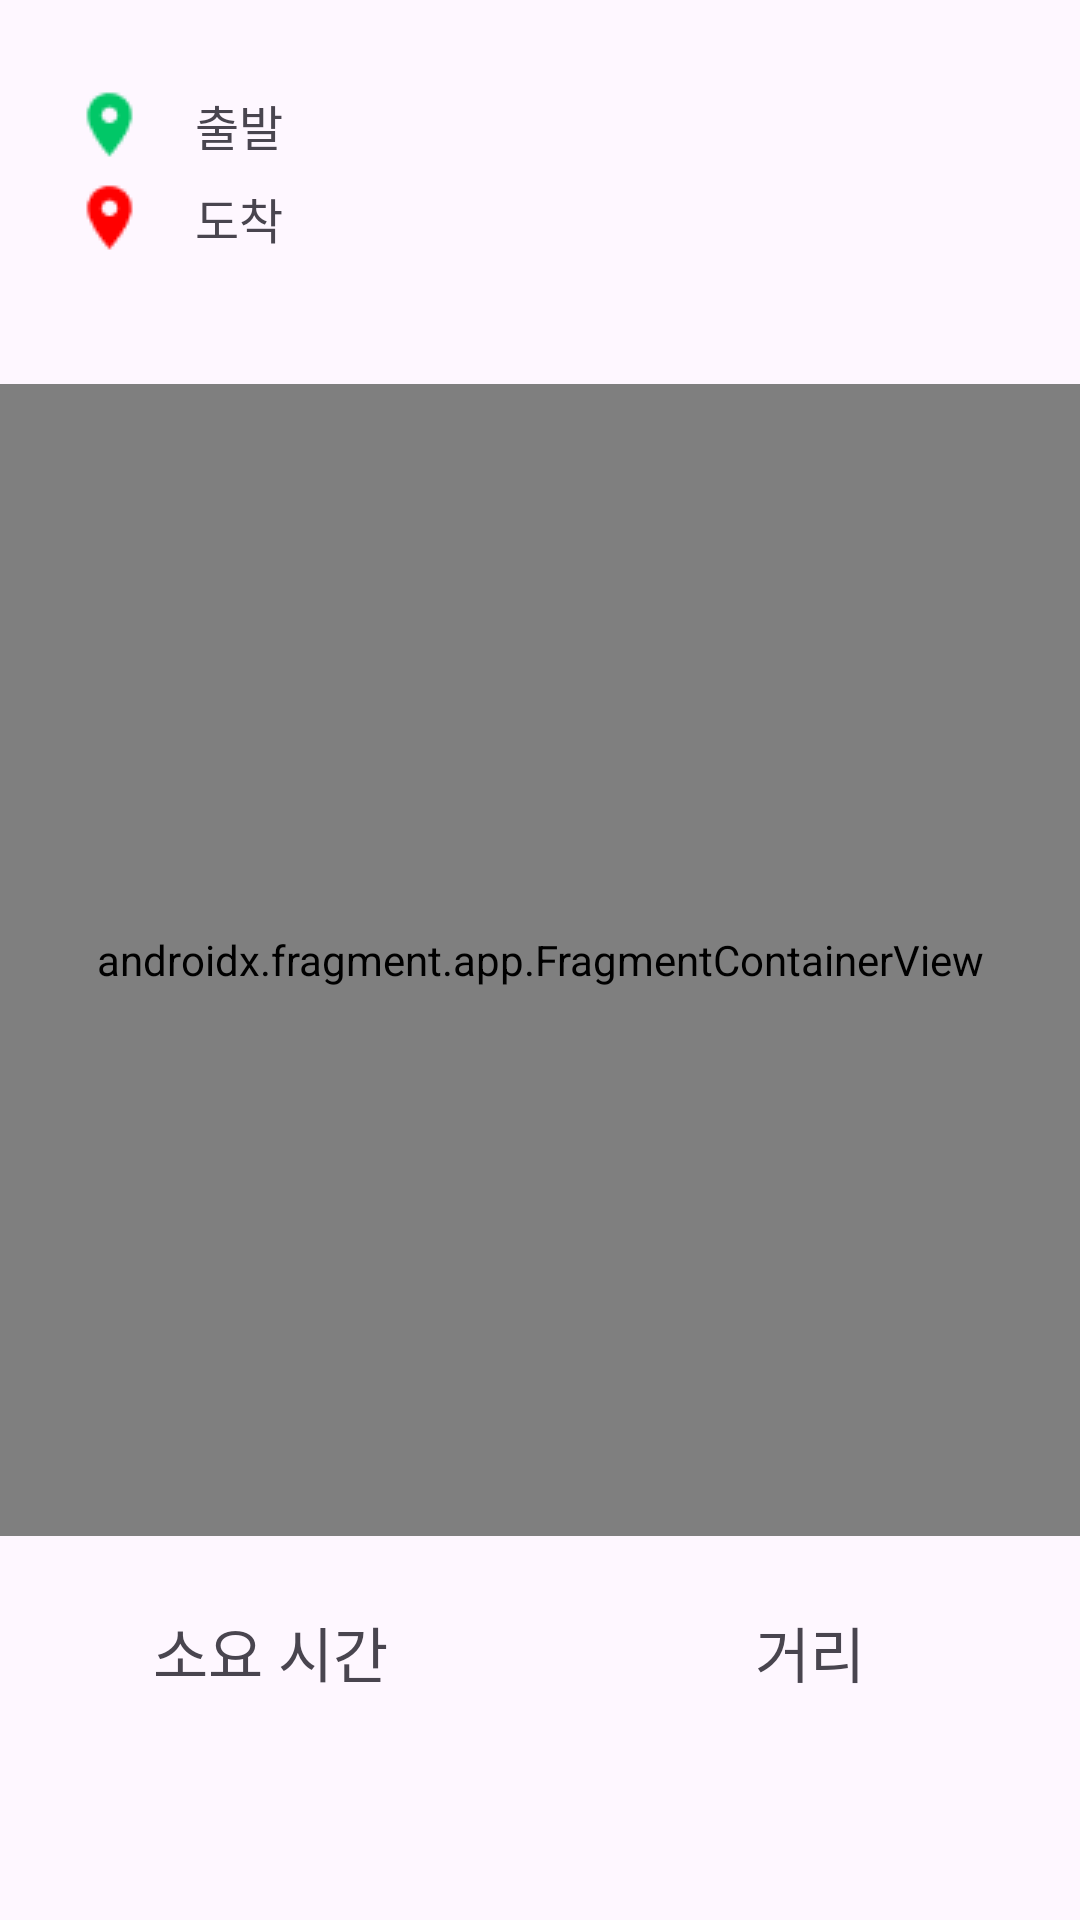

Where to tap for icons on this 1080*1920 app screen, as (x=x, y=y):
endpoint: (x=109, y=217)
startpoint: (x=109, y=124)
